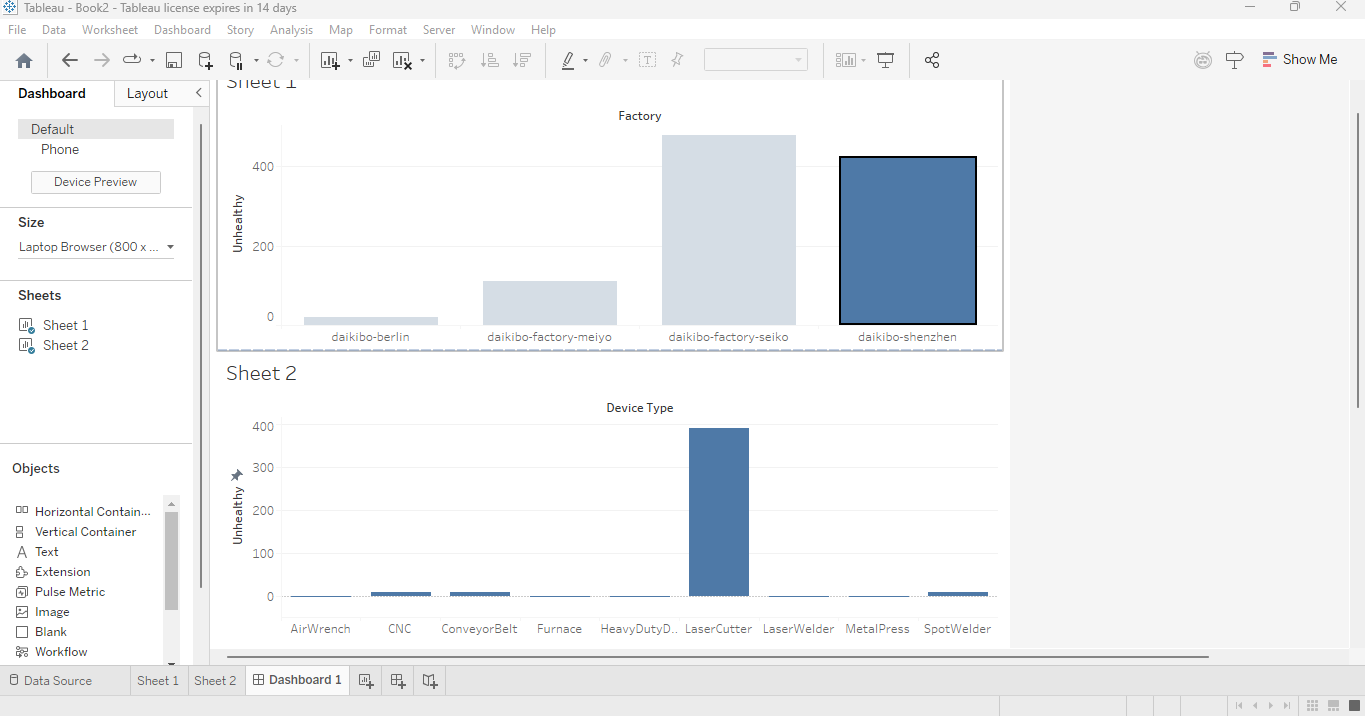

The dashboard page shown, as its layout file describes it:
{"tool":"tableau","page":{"name":"Dashboard 1","canvas":[800,600],"ordinal":0},"visuals":[{"type":"worksheet","title":"Sheet 1","mark":"Automatic","rows":["Calculation_1072982614711652354"],"cols":["factory"],"box":[8,8,784,292]},{"type":"worksheet","title":"Sheet 2","mark":"Automatic","rows":["Calculation_1072982614711652354"],"cols":["deviceType"],"box":[8,300,784,292]}]}

Visuals, with their boxes on the page's 800x600 design canvas (x1, y1, x2, y2). These are canvas units, not pixel positions in the 1365x716 screenshot, which may show the page scaled, cropped or inside an application window:
"Sheet 1" worksheet: x1=8 y1=8 x2=792 y2=300
"Sheet 2" worksheet: x1=8 y1=300 x2=792 y2=592
